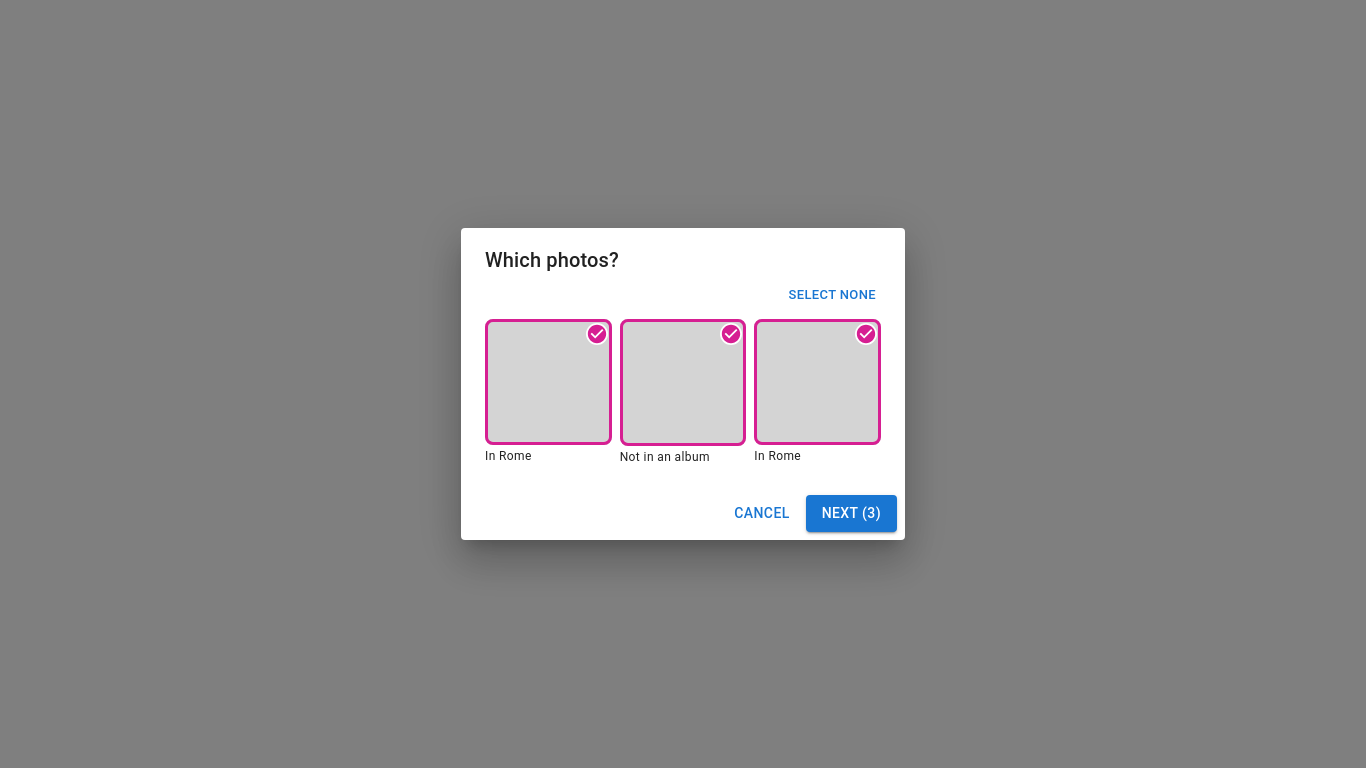
Test: ChoosePhotosDialog › will not go on with nothing ticked
What coordinates should you click on to do the following:
click the button "Select none"
I would click on:
 (832, 296)
Its box is 784,280 -> 881,311.
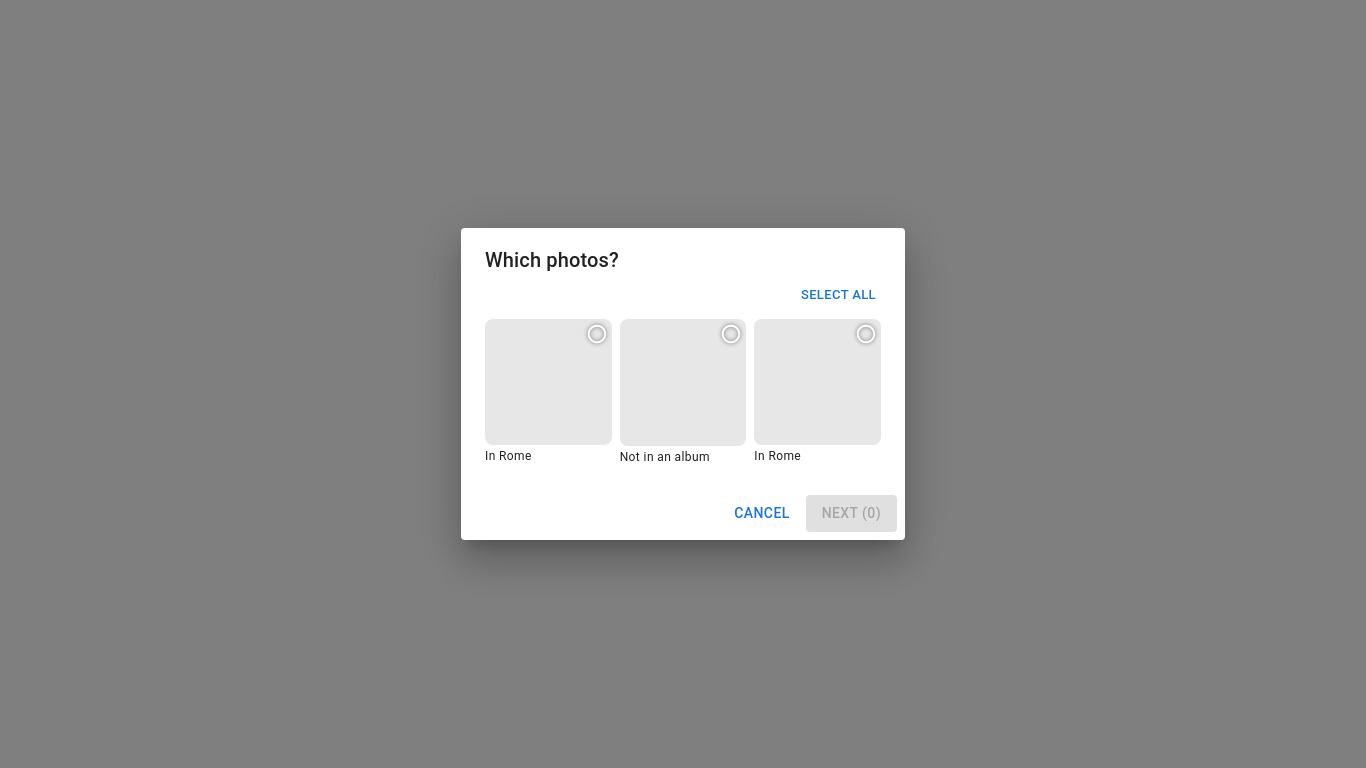
Expected: the button "Next (0)" is disabled, 806,495 -> 897,532
